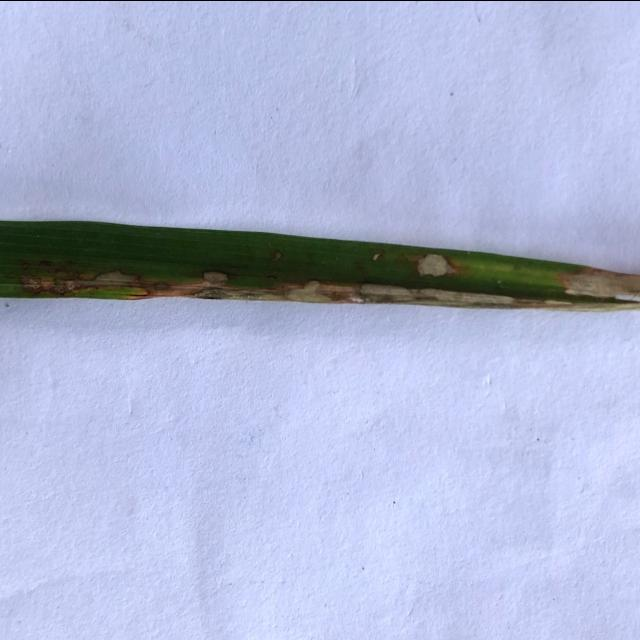Leaf Blight: (19, 268, 640, 309), (417, 251, 457, 276)
